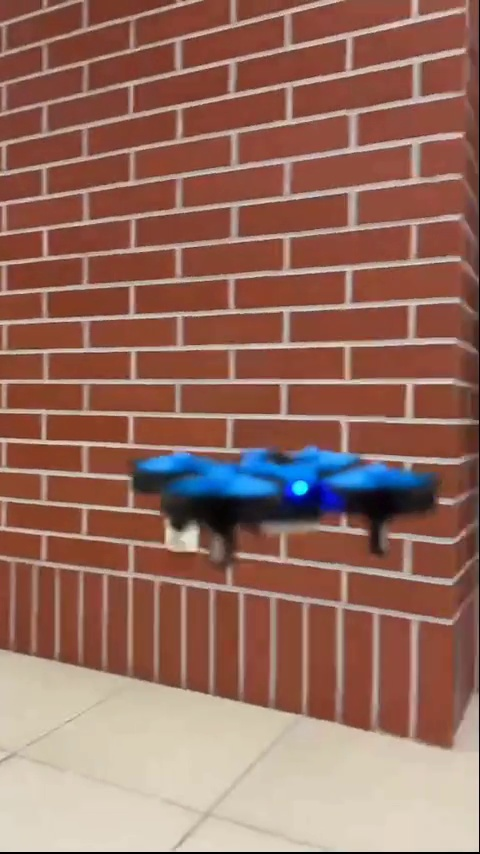drone: (134, 445, 436, 565)
